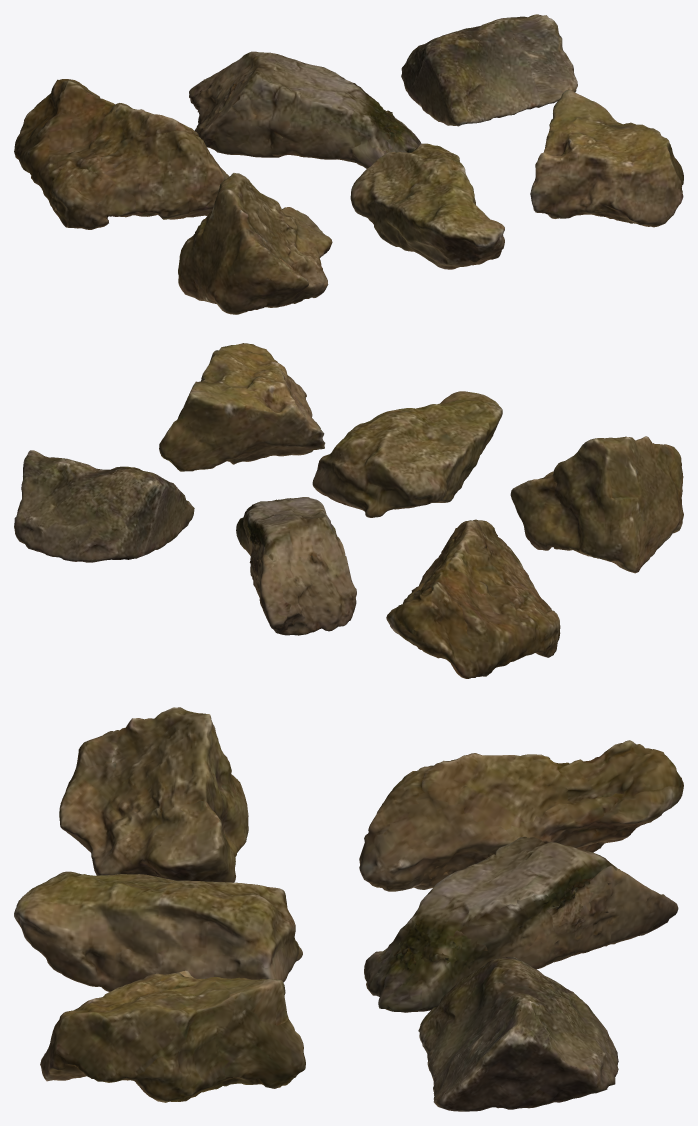
Rendered from rock_moss_set_01_1k.gltf.
The picture shows the model from 3 angles, top to bottom: view 1: azimuth 30°, elevation 25°; view 2: azimuth 150°, elevation 25°; view 3: azimuth 270°, elevation 25°; orthographic projection. The views are drawn at different scales.
Visible parts, largest first — view 1: rock_moss_set_01_rock01, rock_moss_set_01_rock02, rock_moss_set_01_rock06, rock_moss_set_01_rock04, rock_moss_set_01_rock03, rock_moss_set_01_rock05; view 2: rock_moss_set_01_rock04, rock_moss_set_01_rock01, rock_moss_set_01_rock05, rock_moss_set_01_rock03, rock_moss_set_01_rock06, rock_moss_set_01_rock02; view 3: rock_moss_set_01_rock01, rock_moss_set_01_rock02, rock_moss_set_01_rock05, rock_moss_set_01_rock04, rock_moss_set_01_rock06, rock_moss_set_01_rock03.
Boxes of the visible parts, left/top/right/bottom form: rock_moss_set_01_rock01: left=14, top=79, right=229, bottom=229; rock_moss_set_01_rock02: left=189, top=51, right=421, bottom=168; rock_moss_set_01_rock06: left=530, top=89, right=683, bottom=227; rock_moss_set_01_rock04: left=178, top=173, right=332, bottom=314; rock_moss_set_01_rock03: left=401, top=14, right=577, bottom=126; rock_moss_set_01_rock05: left=350, top=143, right=504, bottom=269; rock_moss_set_01_rock04: left=510, top=436, right=683, bottom=573; rock_moss_set_01_rock01: left=386, top=519, right=560, bottom=678; rock_moss_set_01_rock05: left=312, top=391, right=502, bottom=517; rock_moss_set_01_rock03: left=14, top=450, right=194, bottom=562; rock_moss_set_01_rock06: left=159, top=343, right=325, bottom=471; rock_moss_set_01_rock02: left=236, top=497, right=356, bottom=635; rock_moss_set_01_rock01: left=359, top=740, right=683, bottom=891; rock_moss_set_01_rock02: left=364, top=836, right=678, bottom=1012; rock_moss_set_01_rock05: left=14, top=871, right=302, bottom=991; rock_moss_set_01_rock04: left=59, top=707, right=248, bottom=882; rock_moss_set_01_rock06: left=40, top=970, right=305, bottom=1102; rock_moss_set_01_rock03: left=418, top=956, right=618, bottom=1111.
Size of the model in its own units: 8 by 1.77 by 6.95.
Materials: 1 (1 with a texture image).
